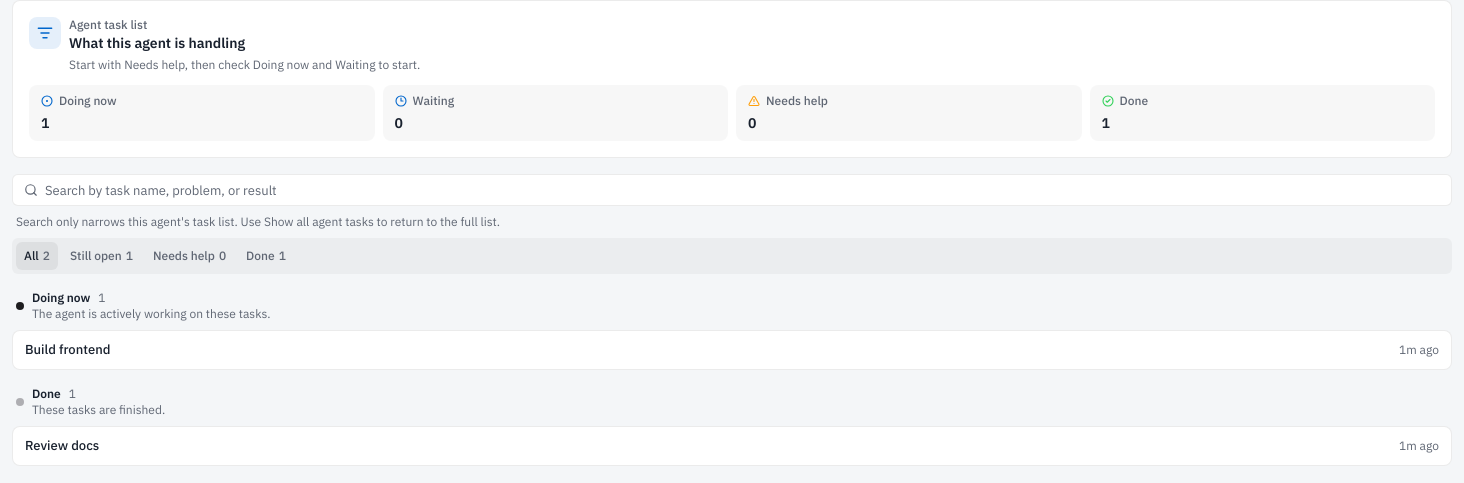
Test: AgentTasksTab › explains search-only and combined empty agent task filters
The width and height of the screenshot is (1464, 483).
Expected: the text "Build frontend" is shown, [25,341,110,358]
Type "missing" into the search field with test id "agent-task-search" at coordinates (732, 190), box [12,174,1452,206]
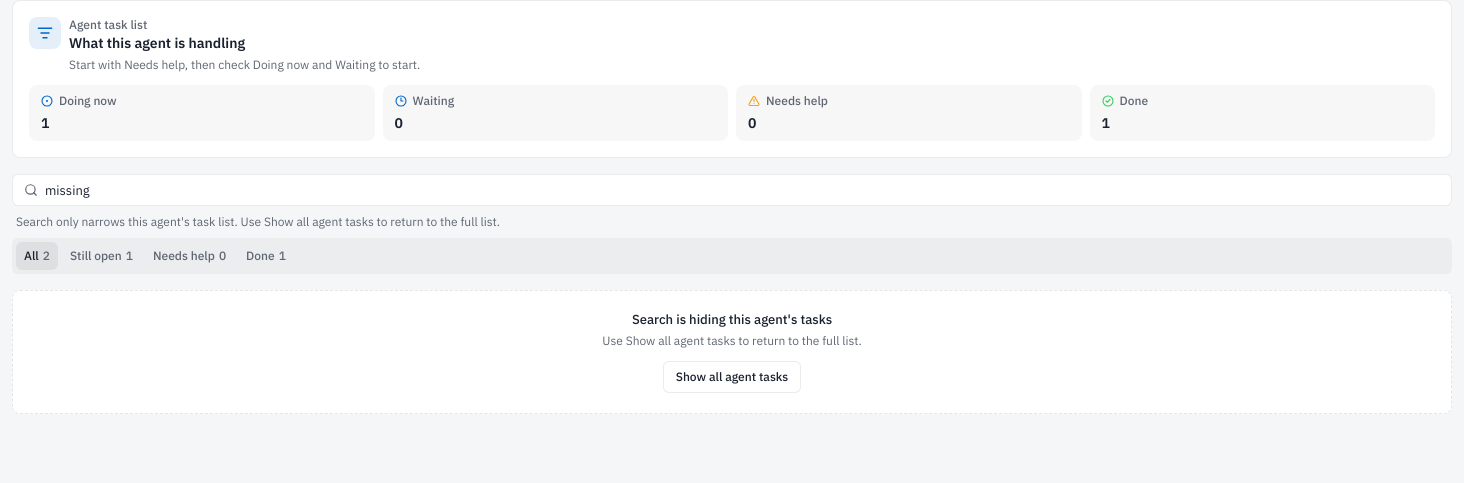
Expected: the text "Search is hiding this agent's tasks" is shown, [632,311,832,328]
Expected: the message with test id "agent-tasks-filter-empty" shows "Use Show all agent tasks to return to the full list.", [602,333,862,348]
Click the button "Show all agent tasks" at coordinates (732, 377), box [663,361,801,393]
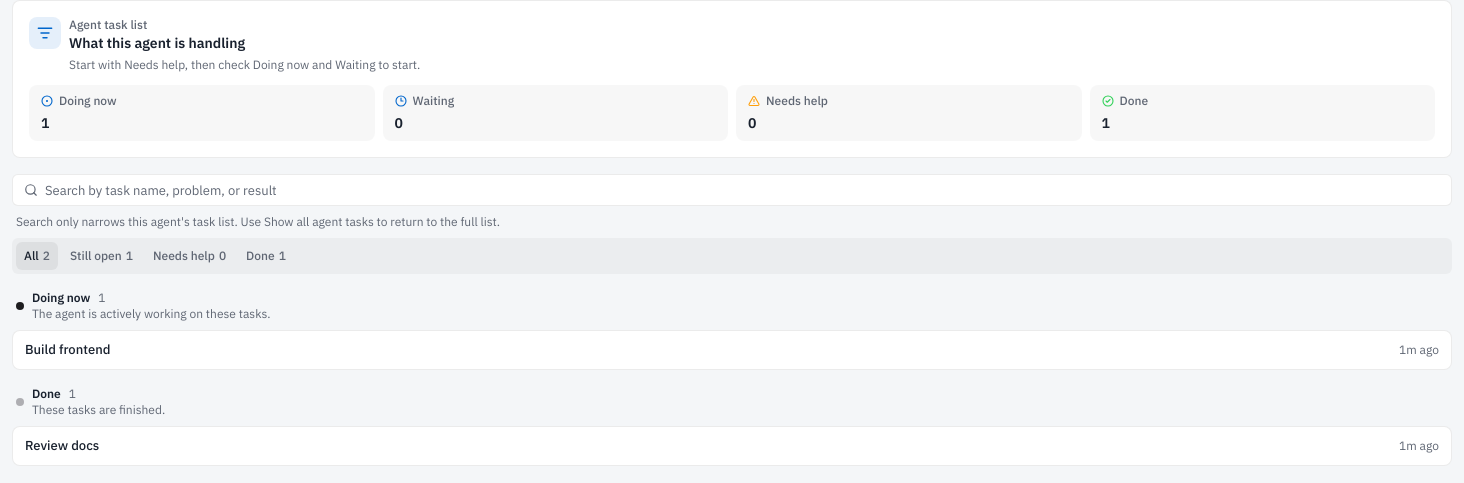
Click the button named "show tasks that need help or stopped early for this agent, 0 matching tasks" at coordinates (190, 256), box [145,242,234,270]
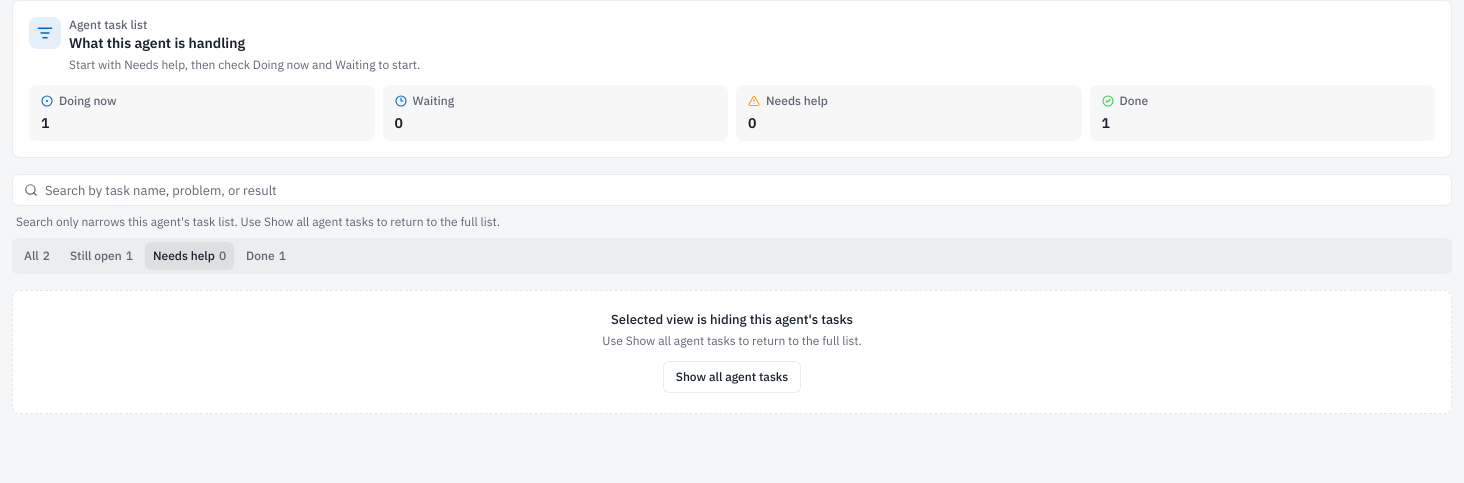
Type "frontend" into the search field with test id "agent-task-search" at coordinates (732, 190), box [12,174,1452,206]
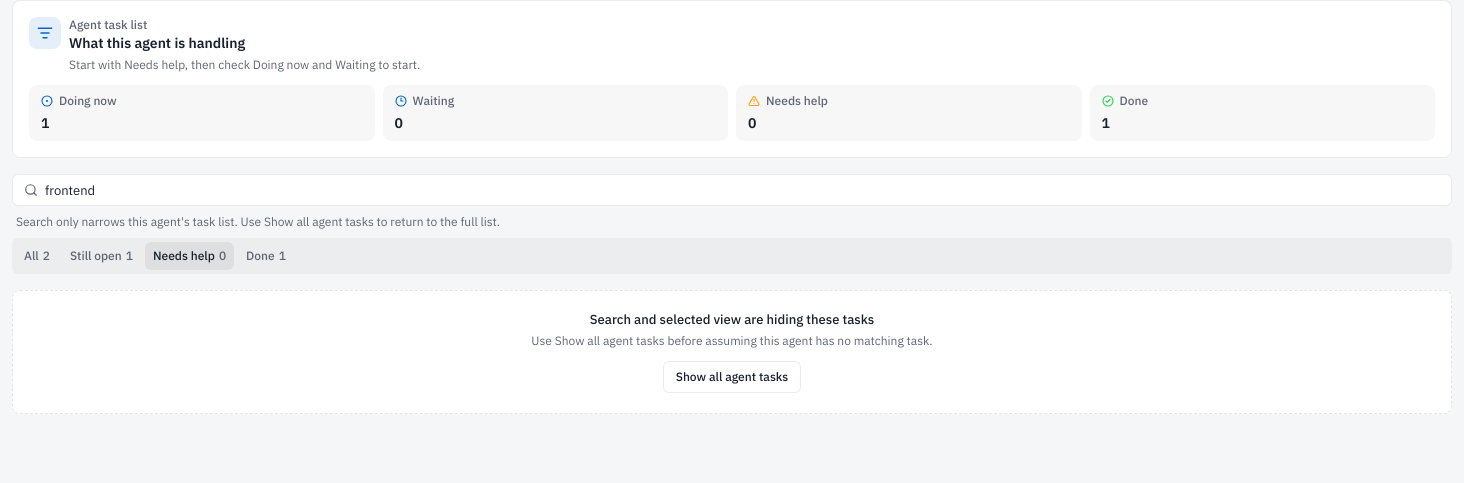
Expected: the text "Search and selected view are hiding these tasks" is shown, [590,311,874,328]
Expected: the message with test id "agent-tasks-filter-empty" shows "Use Show all agent tasks before assuming this agent has no matching task.", [531,333,933,348]
